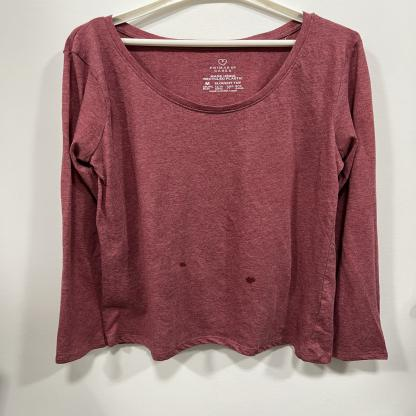stain: (244, 276, 258, 285), (177, 261, 188, 268)
